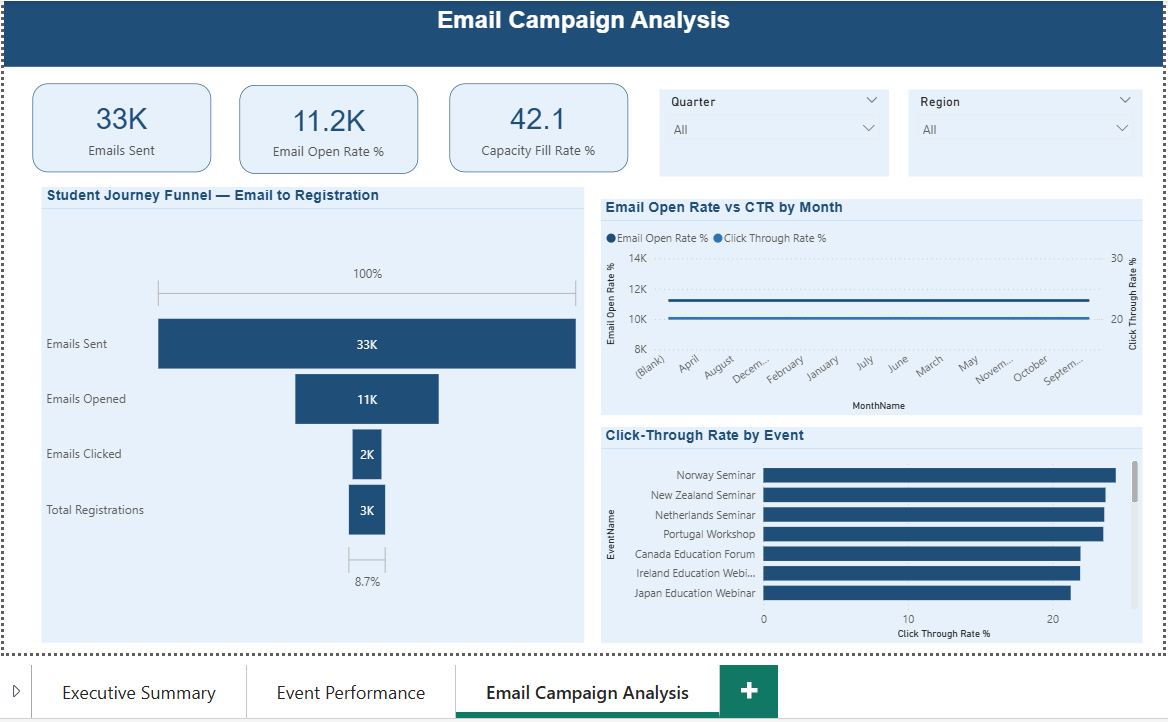

Layout of this report page (visuals, bound fields, positions):
{"tool":"powerbi","page":{"name":"Email Campaign Analysis","canvas":[1280,720],"ordinal":2},"visuals":[{"type":"textbox","box":[0,0,1280.5,72.9],"z":0},{"type":"funnel","title":"Student Journey Funnel — Email to Registration","fields":{"Y":["_Measures.Emails Sent","_Measures.Emails Opened","_Measures.Emails Clicked","_Measures.Total Registrations"]},"box":[41.4,205.4,599.6,503.6],"z":1000},{"type":"lineChart","title":"Email Open Rate vs CTR by Month","fields":{"Category":["Dim_Date.MonthName"],"Y":["_Measures.Email Open Rate %"],"Y2":["_Measures.Click Through Rate %"]},"box":[659.3,218.7,598,238.5],"z":2000},{"type":"clusteredBarChart","title":"Click-Through Rate by Event","fields":{"Category":["Dim_Events.EventName"],"Y":["_Measures.Click Through Rate %"]},"box":[659.3,470.4,598,238.5],"z":3000},{"type":"slicer","fields":{"Values":["Dim_Date.Quarter"]},"box":[723.9,97.7,253.4,96.1],"z":4000},{"type":"slicer","fields":{"Values":["Dim_Events.Region"]},"box":[998.9,97.7,258.4,96.1],"z":5000},{"type":"card","fields":{"Values":["_Measures.Emails Sent"]},"box":[31.5,91.1,197.1,97.7],"z":6000},{"type":"card","fields":{"Values":["_Measures.Email Open Rate %"]},"box":[260.1,92.8,197.1,97.7],"z":7000},{"type":"card","fields":{"Values":["_Measures.Capacity Fill Rate %"]},"box":[492,91.1,197.1,97.7],"z":8000}]}

Visuals, with their boxes on the page's 1280x720 design canvas (x1, y1, x2, y2). These are canvas units, not pixel positions in the 1168x722 screenshot, which may show the page scaled, cropped or inside an application window:
textbox: [0,0,1280,73]
"Student Journey Funnel — Email to Registration" funnel: [41,205,641,709]
"Email Open Rate vs CTR by Month" lineChart: [659,219,1257,457]
"Click-Through Rate by Event" clusteredBarChart: [659,470,1257,709]
slicer - Dim_Date.Quarter: [724,98,977,194]
slicer - Dim_Events.Region: [999,98,1257,194]
card - _Measures.Emails Sent: [32,91,229,189]
card - _Measures.Email Open Rate %: [260,93,457,190]
card - _Measures.Capacity Fill Rate %: [492,91,689,189]
